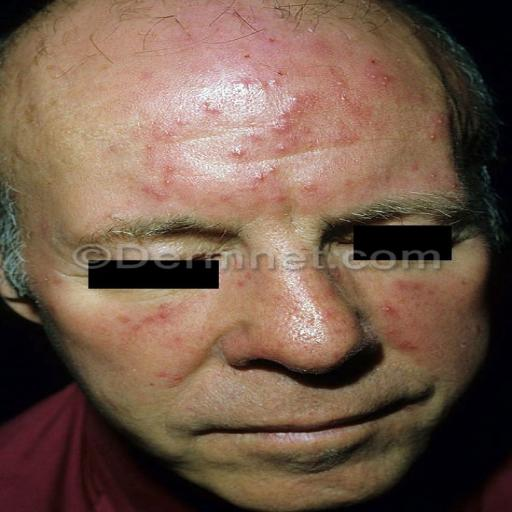Skin_Lesion: (126, 299, 222, 338), (226, 69, 286, 90), (188, 90, 226, 122), (141, 176, 174, 207), (273, 98, 308, 127), (364, 54, 389, 92), (150, 110, 174, 149), (252, 136, 298, 152), (25, 100, 44, 136), (227, 145, 249, 162), (380, 302, 399, 320), (262, 162, 276, 186), (137, 67, 154, 84), (38, 218, 51, 236)
